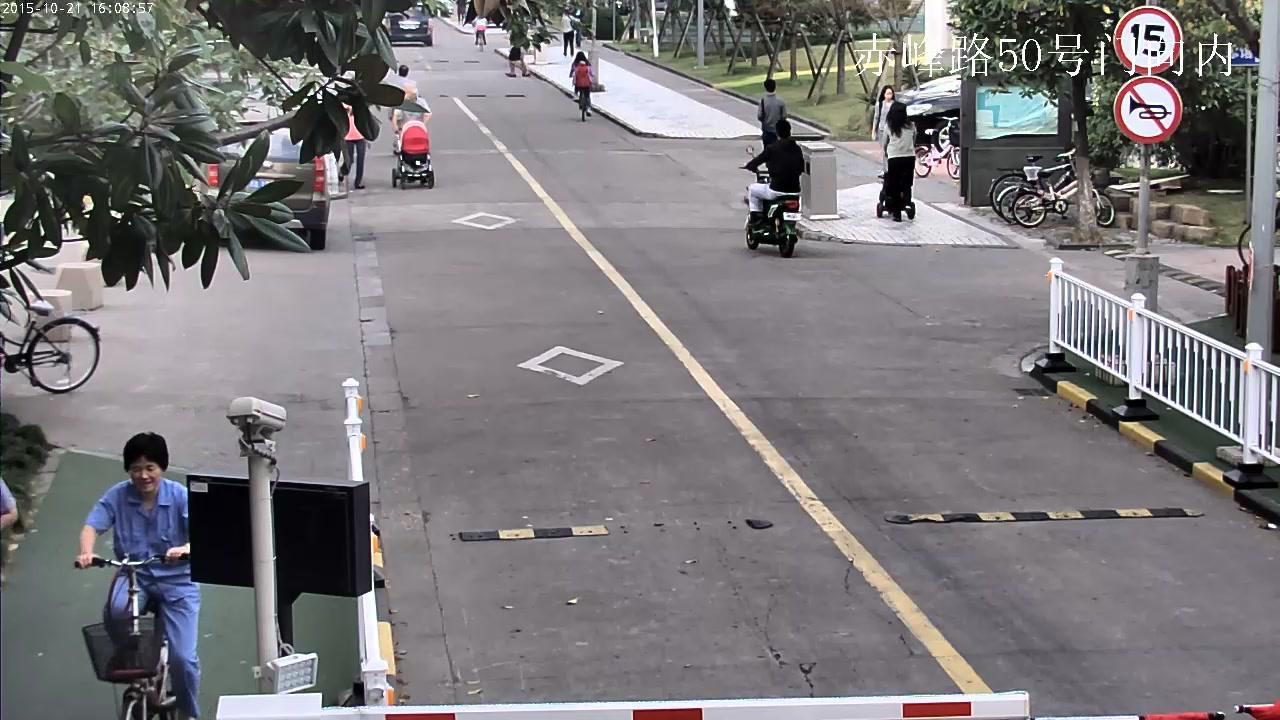face: (129, 456, 160, 490), (884, 87, 893, 99), (404, 89, 413, 100)
